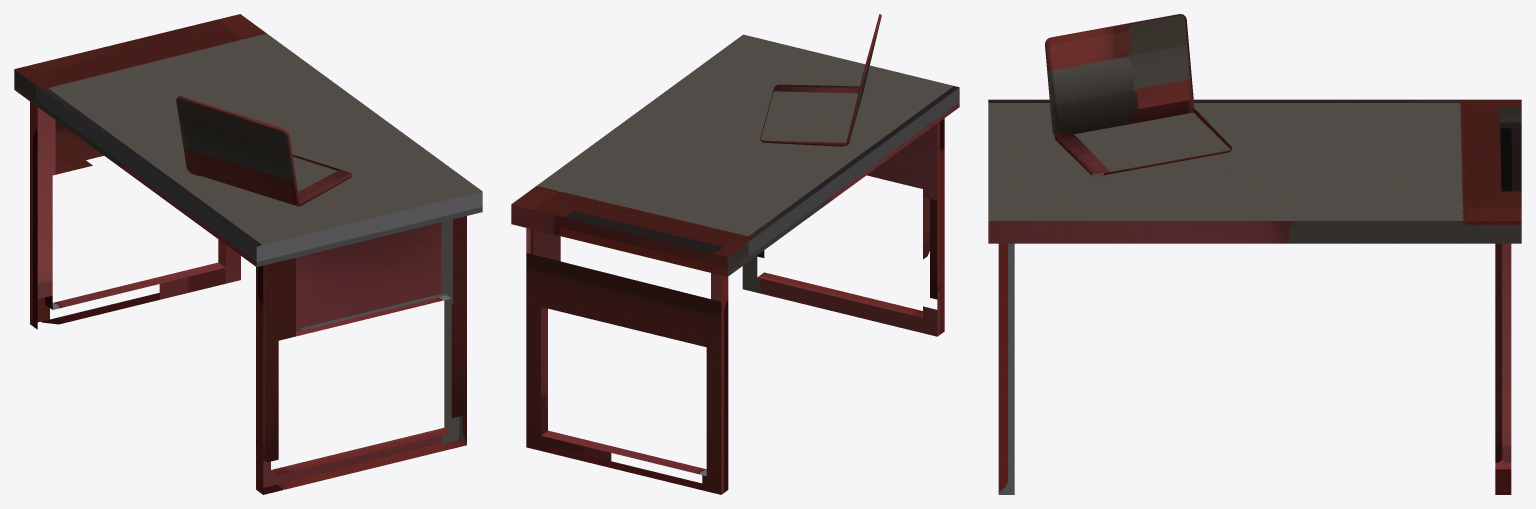
The model's file is bureau.obj.
3 renders of one model, left to right at view 1: azimuth 30°, elevation 25°; view 2: azimuth 150°, elevation 25°; view 3: azimuth 270°, elevation 25°, orthographic. The views are drawn at different scales.
Visible parts, largest first — view 1: Cube.001; view 2: Cube.001; view 3: Cube.001.
Part boxes in pixels (x1,y1,x2,y2): Cube.001: (14,14,482,494); Cube.001: (511,14,959,494); Cube.001: (988,14,1521,494).
Size of the model in its own units: 1.4 by 2 by 2.6.
1 material, 1 textured.
